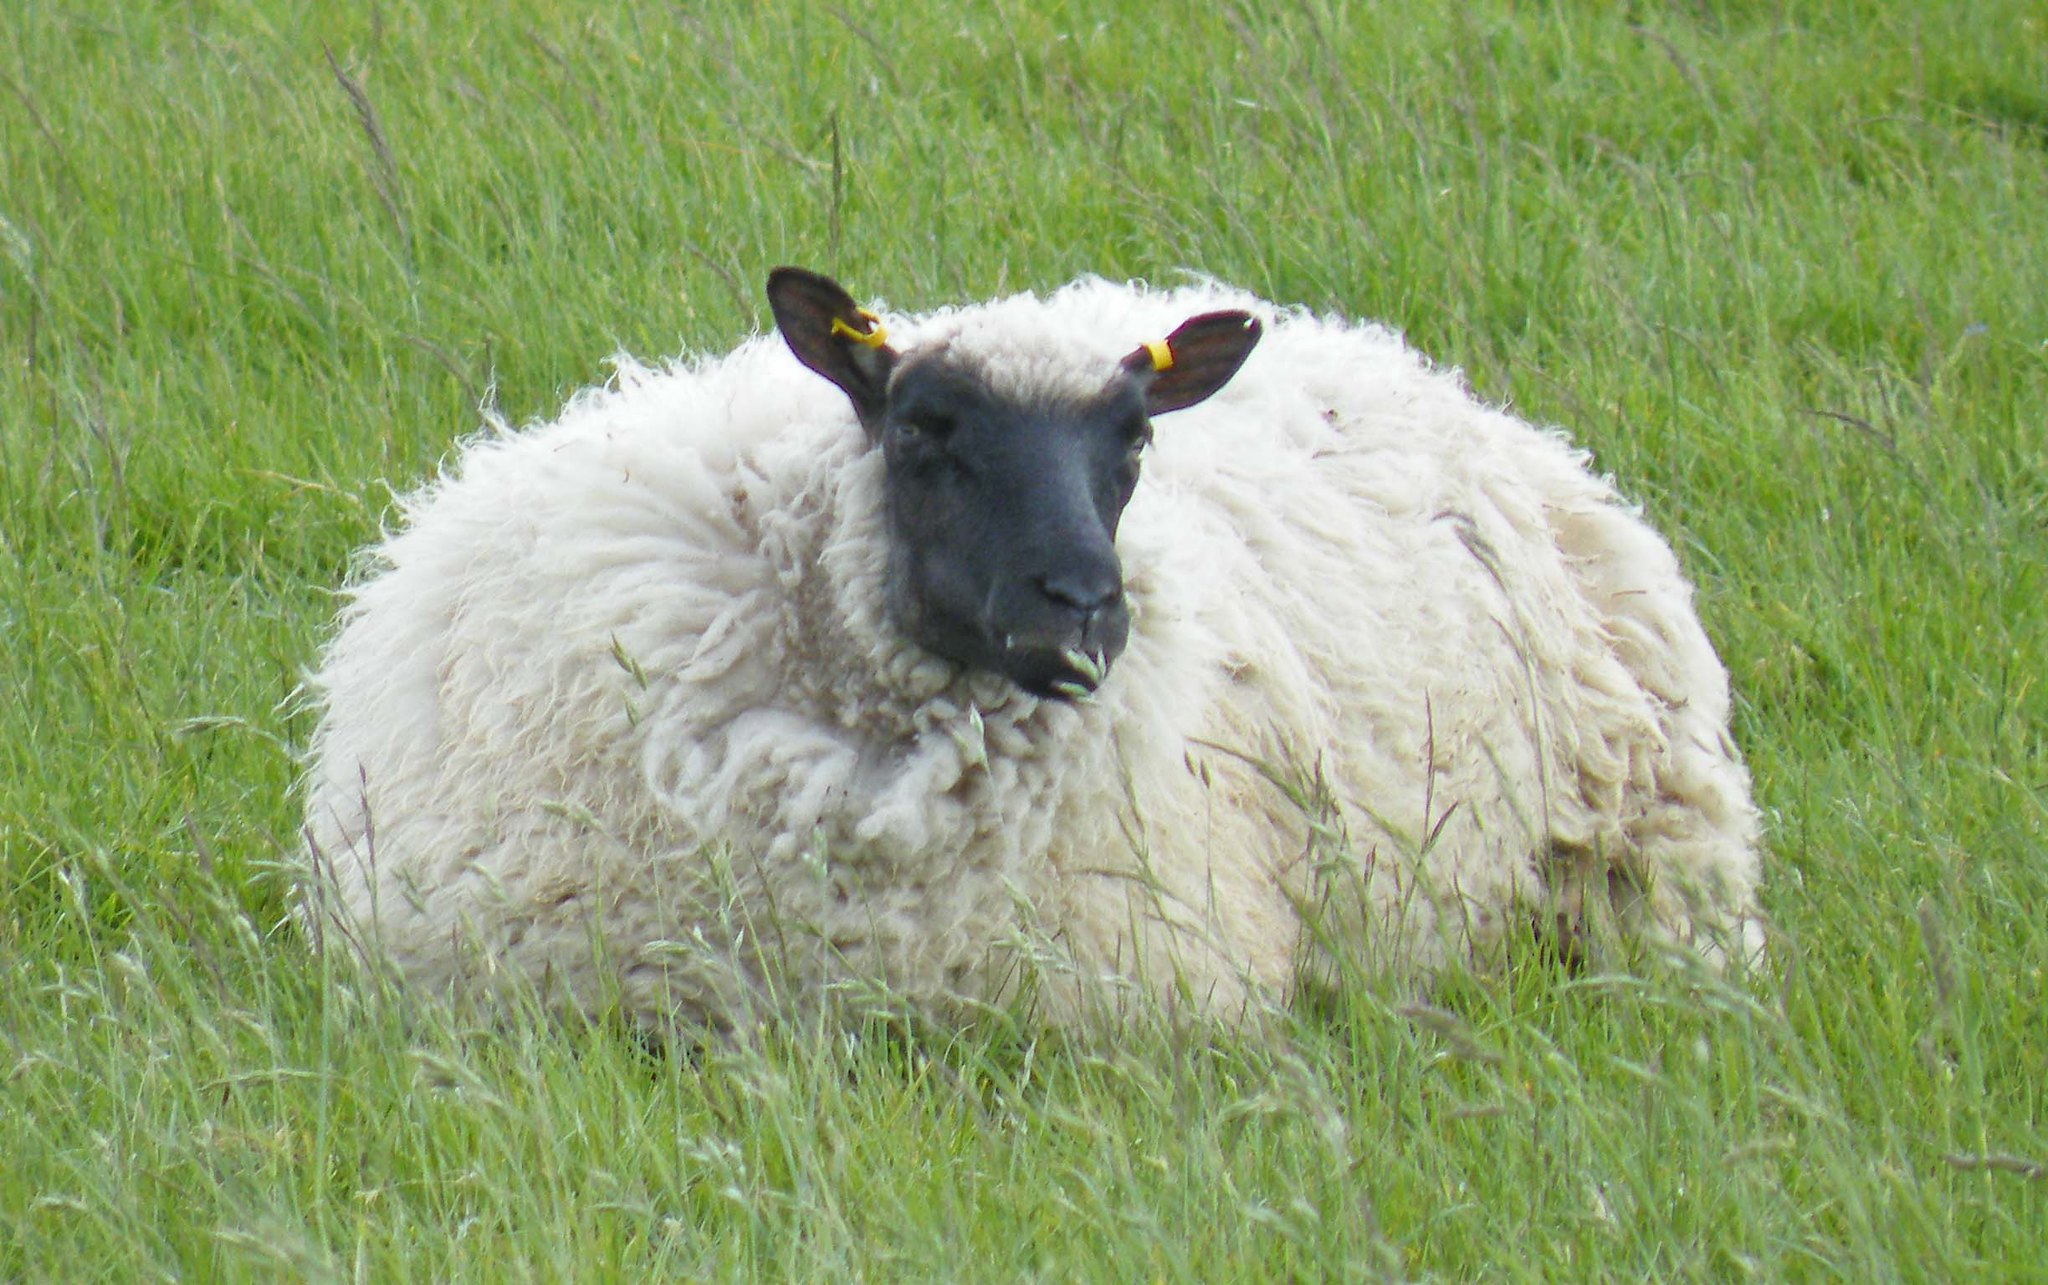sheep: (314, 271, 1788, 1061)
